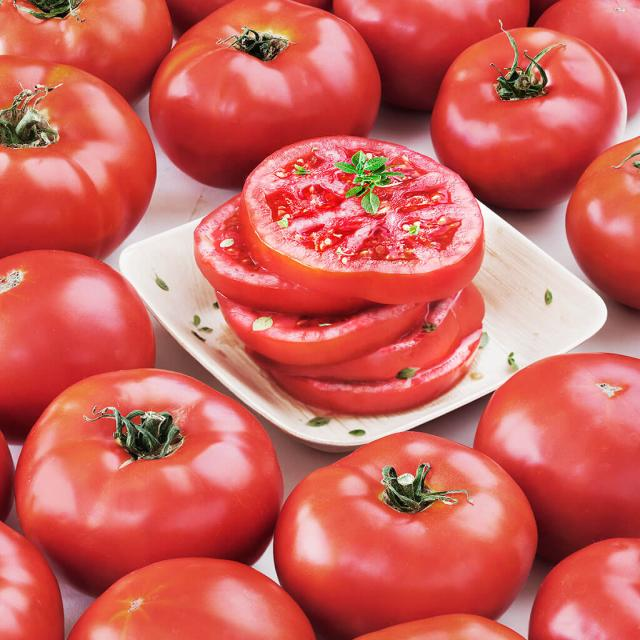tomato: (147, 0, 396, 185), (30, 378, 282, 550), (280, 433, 532, 603), (434, 33, 628, 186)
